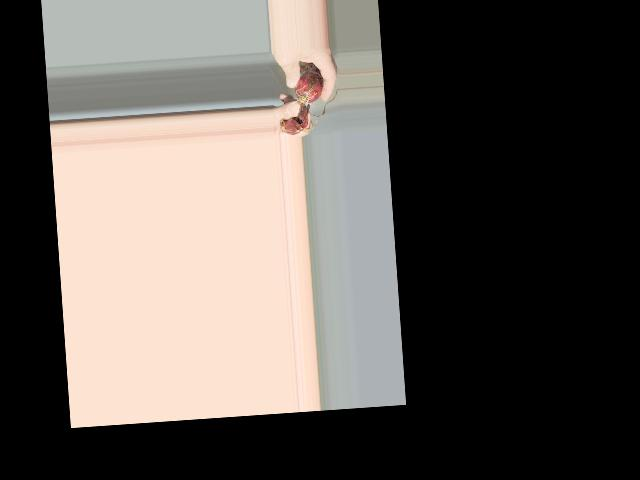onion: (293, 74, 323, 103)
